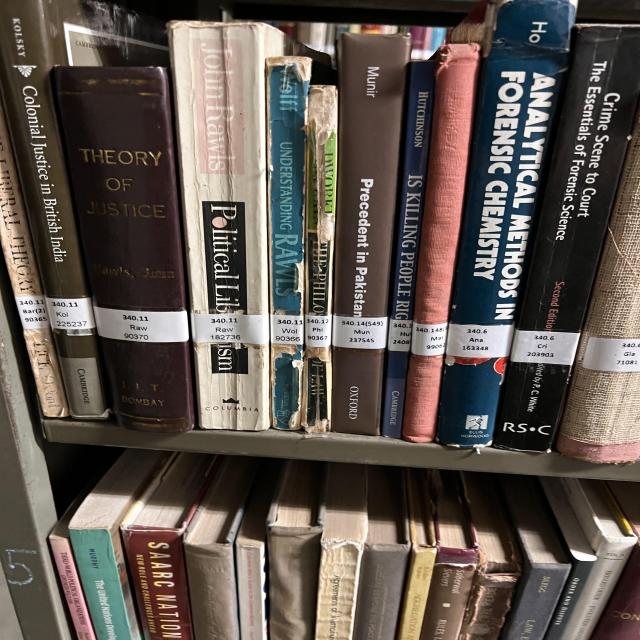Book: (493, 25, 640, 451), (437, 0, 575, 448), (53, 66, 195, 432), (168, 21, 283, 430), (332, 34, 410, 435), (402, 44, 480, 442), (557, 114, 640, 462), (0, 110, 68, 418), (382, 60, 435, 438), (68, 449, 168, 640), (122, 452, 218, 640), (267, 56, 308, 430), (183, 456, 260, 640), (302, 86, 338, 434), (560, 479, 637, 640), (498, 475, 572, 640), (458, 472, 522, 640), (267, 460, 323, 640), (353, 465, 410, 640), (315, 462, 368, 640), (540, 478, 597, 640), (235, 460, 282, 640), (48, 488, 97, 640), (397, 469, 437, 640), (420, 546, 477, 640)
Label: (93, 306, 188, 342), (190, 312, 270, 345), (510, 330, 580, 365), (445, 324, 513, 358), (582, 338, 640, 372), (332, 315, 388, 349), (45, 298, 95, 330), (412, 322, 448, 356), (15, 295, 50, 329), (270, 315, 303, 345), (305, 315, 332, 348)
